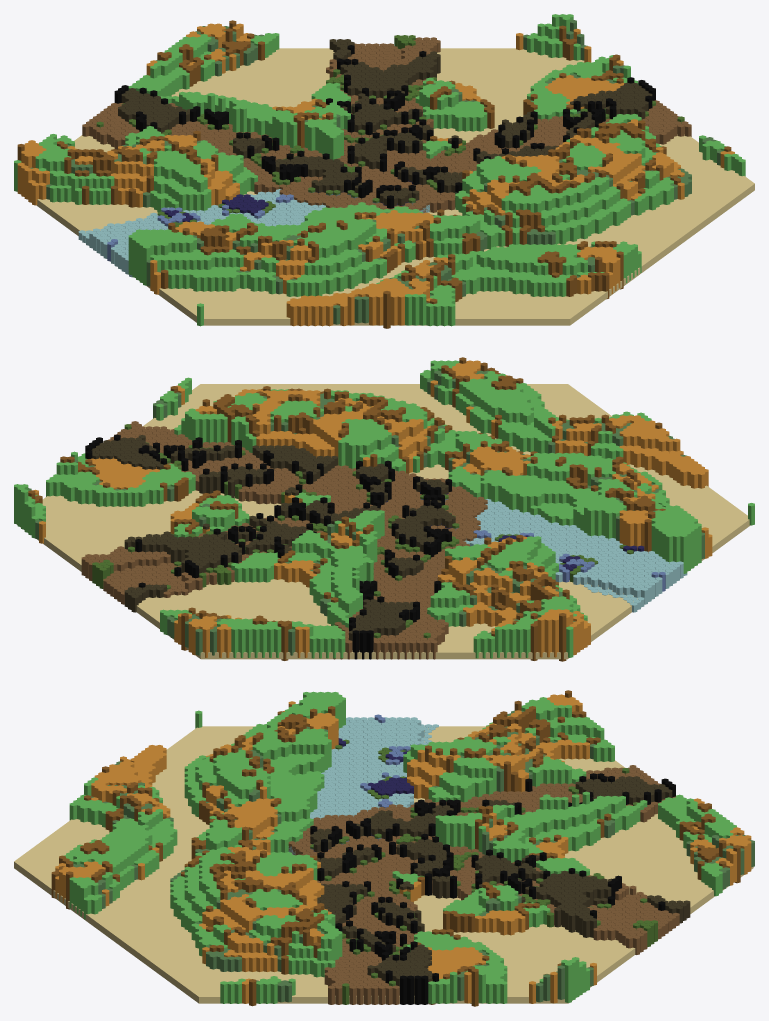
File: 0019_tile_1201112.fbx
The picture shows the model from 3 angles, top to bottom: view 1: azimuth 30°, elevation 25°; view 2: azimuth 150°, elevation 25°; view 3: azimuth 270°, elevation 25°; orthographic projection.
Parts seen in each view (by area): view 1: Plane; view 2: Plane; view 3: Plane.
Part boxes in pixels (x1,y1,x2,y2): Plane: (14,14,754,328); Plane: (14,357,754,661); Plane: (14,690,754,1006).
Size of the model in its own units: 1008 by 78.22 by 1152.
